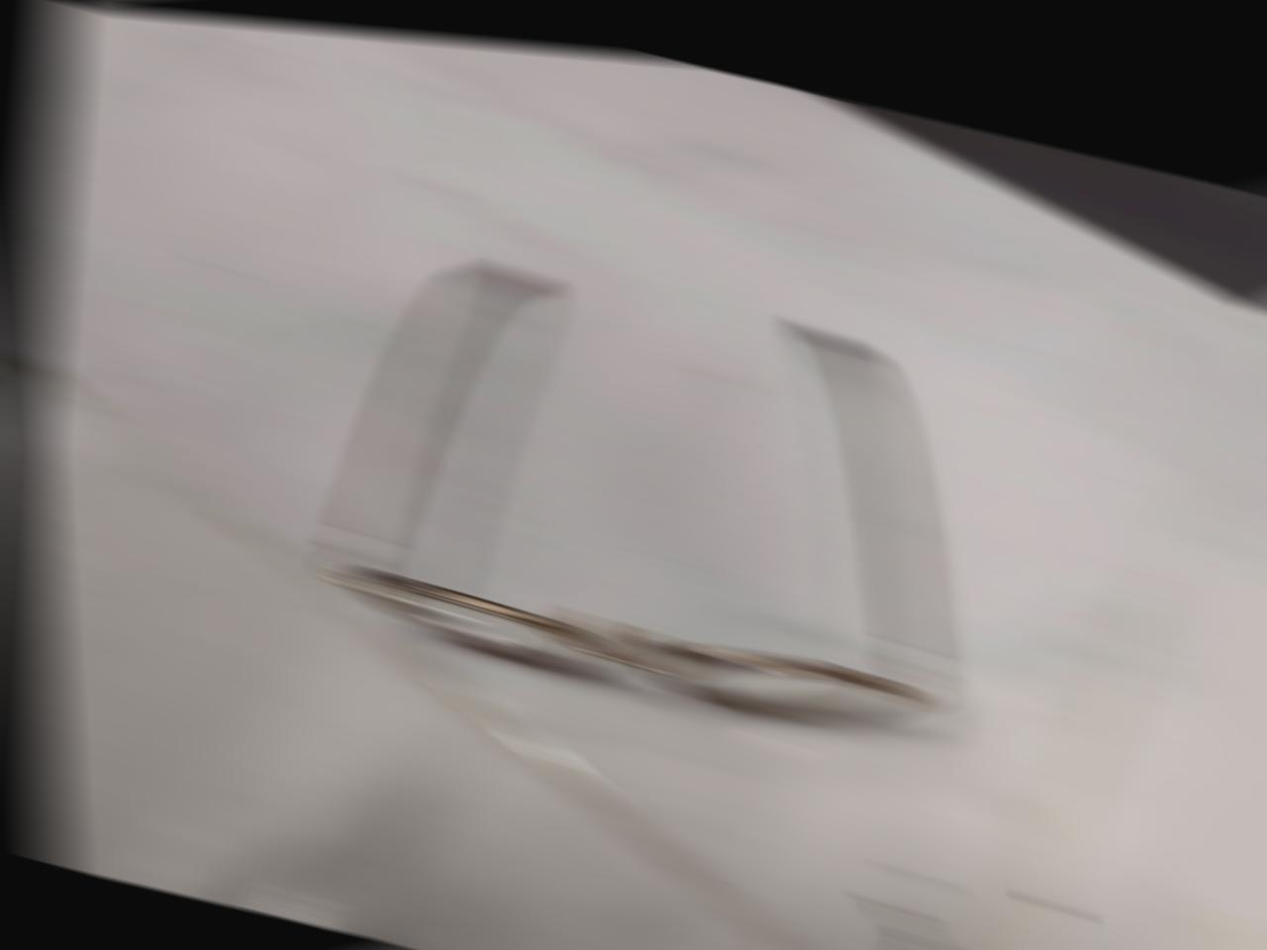glasses: (258, 195, 1017, 784)
